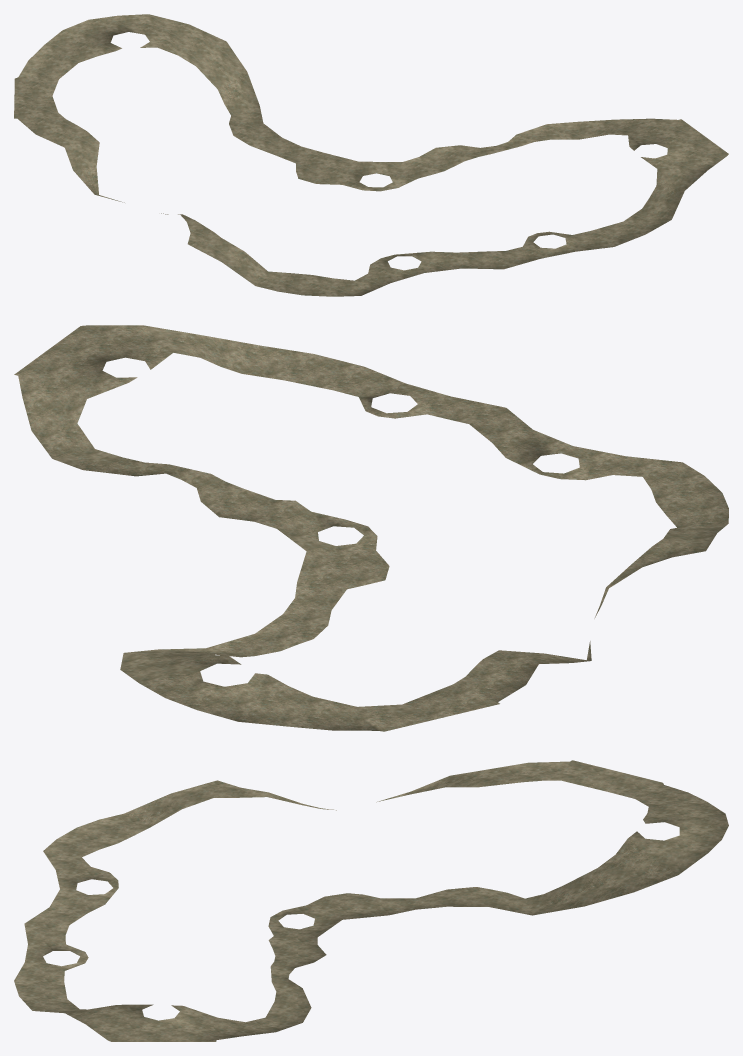
File: EKH_JAIL_PS_JA_SECOND_FLOOR_393837.fbx
3 views of the same model, one above another, from view 1: azimuth 30°, elevation 25°; view 2: azimuth 150°, elevation 25°; view 3: azimuth 270°, elevation 25° (orthographic). The views are drawn at different scales.
Visible parts, largest first — view 1: EKH_JAIL_PS_JA_SECOND_FLOOR_393837; view 2: EKH_JAIL_PS_JA_SECOND_FLOOR_393837; view 3: EKH_JAIL_PS_JA_SECOND_FLOOR_393837.
Part boxes in pixels (<box>): EKH_JAIL_PS_JA_SECOND_FLOOR_393837: <box>14,14,728,296</box>; EKH_JAIL_PS_JA_SECOND_FLOOR_393837: <box>14,325,728,731</box>; EKH_JAIL_PS_JA_SECOND_FLOOR_393837: <box>14,760,728,1041</box>.
Size of the model in its own units: 308032 by 25164 by 339257.
1 material, 1 textured.
